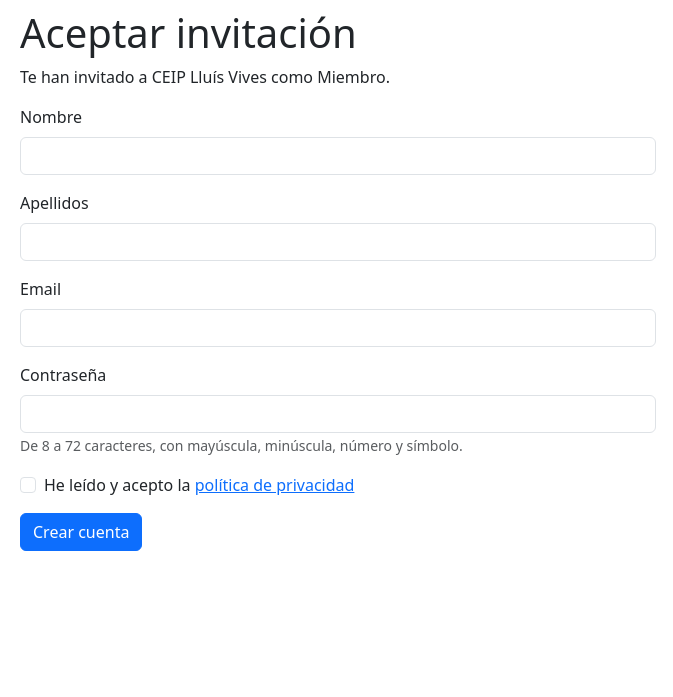
Test: AcceptInvitationPage › the form › validates inline and sends nothing when it is empty
Expected: the field labelled "Nombre" is shown, [20,137,656,175]
Click the button "Crear cuenta".
click(81, 532)  # box [20,513,142,551]
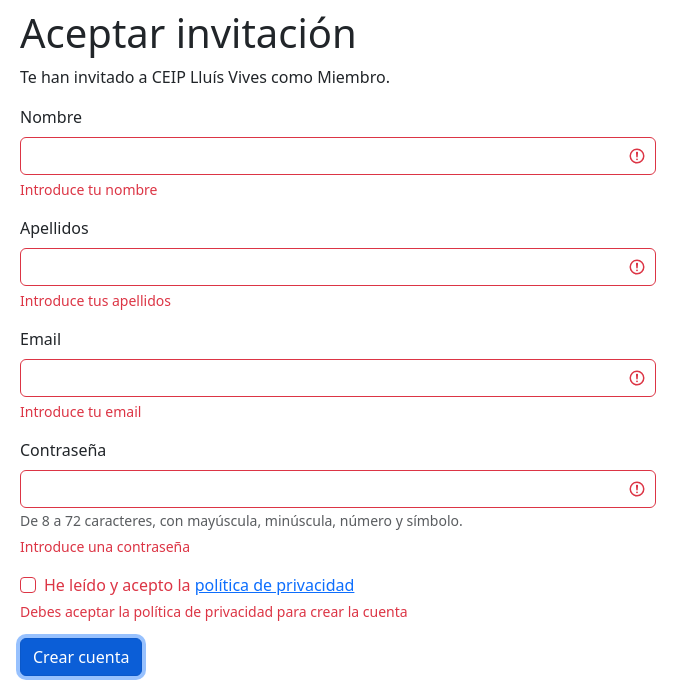
Now the messages read "Introduce tu nombre", "Introduce tus apellidos", "Introduce tu email", "Introduce una contraseña", "Debes aceptar la política de privacidad para crear la cuenta", in this order, box [20,180,158,199]; [20,291,171,310]; [20,402,141,421]; [20,537,190,556]; [20,602,408,621]
